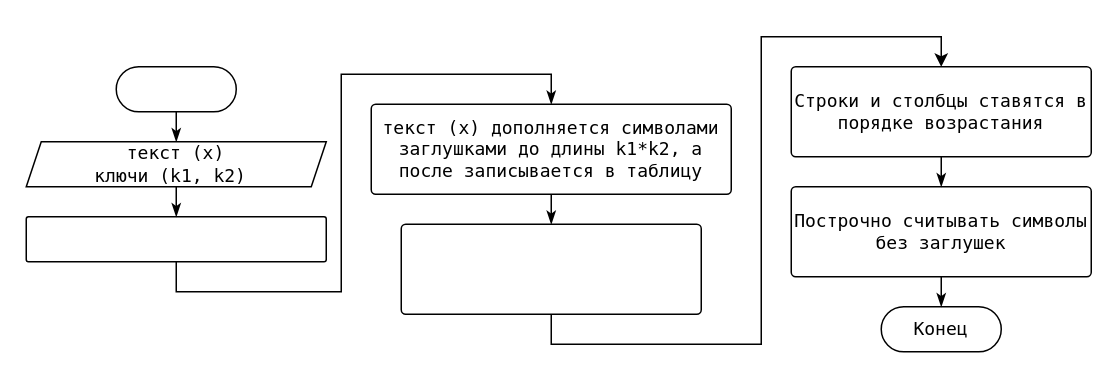
Image size: 1118x383. Some labels were removed from this diagram. The centre of each missing label's shape, as x and y in pixels:
"Начало" belongs at point (175, 88).
"построить матрица [k1][k2]" belongs at point (175, 238).
"Таблица индексируется: Строки - ключом k2 Столбцы - ключом k1" belongs at point (550, 268).
